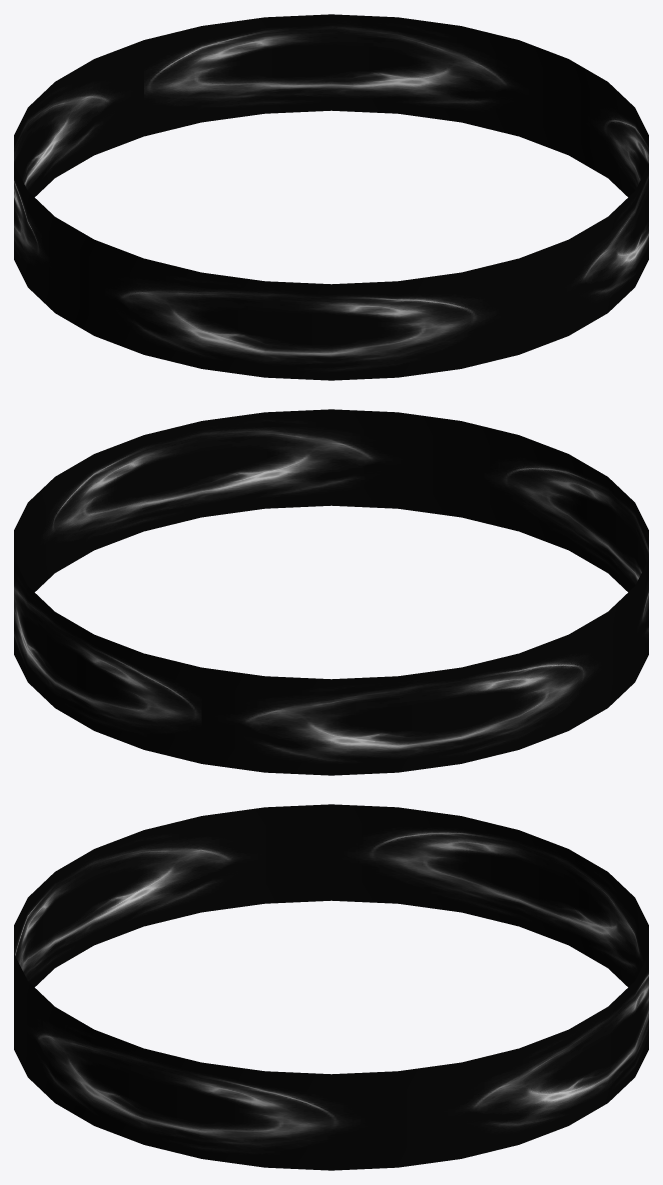
Rendered from 0244_changjin_wenzi_01.glb.
3 views of the same model, one above another, from view 1: azimuth 30°, elevation 25°; view 2: azimuth 150°, elevation 25°; view 3: azimuth 270°, elevation 25° (orthographic).
Size of the model in its own units: 2.2 by 0.3667 by 2.19.
1 material, 1 textured.
